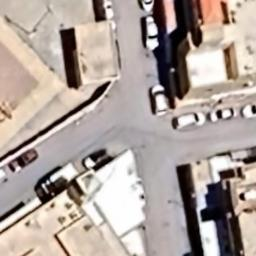SUV: (147, 84, 174, 120), (170, 110, 206, 132)
pickup: (138, 14, 161, 52)
sedan: (208, 105, 238, 124), (242, 99, 256, 120)
unknown: (6, 148, 42, 174)
